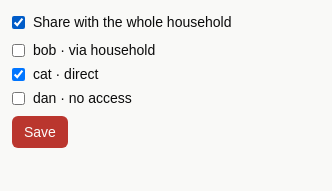
WalletSharingRow › submits the whole row: switch off, direct list as checked
Click the switch named "Share Everyday with the whole household" at (18, 22), box [12,16,25,28]
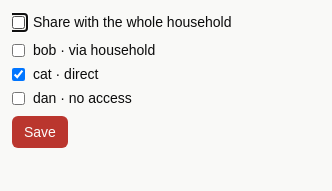
Click the checkbox named "Share Everyday directly with dan" at (18, 98), box [12,92,25,104]
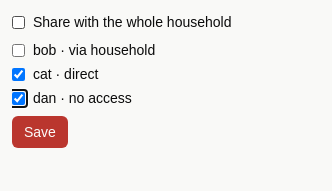
Click the button with aria-label "Save sharing for Everyday" at (40, 132), box [12,116,68,148]
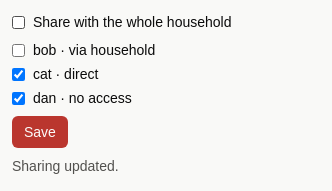
Expected: the text "Sharing updated." is shown, [12,158,119,174]
